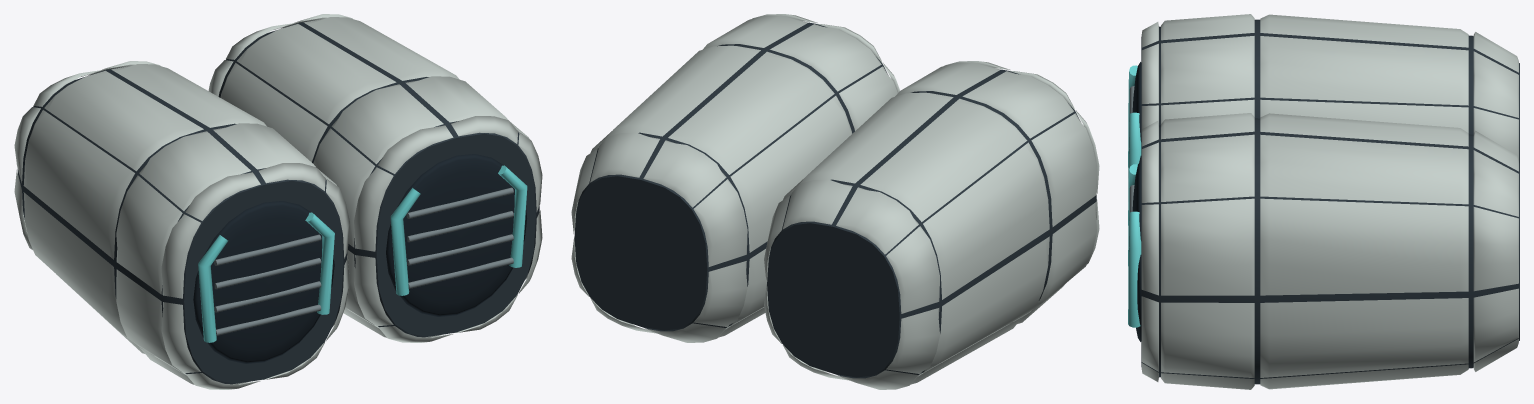
The model's file is boss_drone_hangar.glb.
3 renders of one model, left to right at view 1: azimuth 30°, elevation 25°; view 2: azimuth 150°, elevation 25°; view 3: azimuth 270°, elevation 25°, orthographic. The views are drawn at different scales.
Visible parts, largest first — view 1: boss_drone_hangar; view 2: boss_drone_hangar; view 3: boss_drone_hangar.
Boxes of the visible parts, x1,y1,x2,y2 form: boss_drone_hangar: (14,14,542,389); boss_drone_hangar: (571,14,1099,389); boss_drone_hangar: (1128,14,1519,389).
Size of the model in its own units: 8.08 by 4.6 by 6.8.
